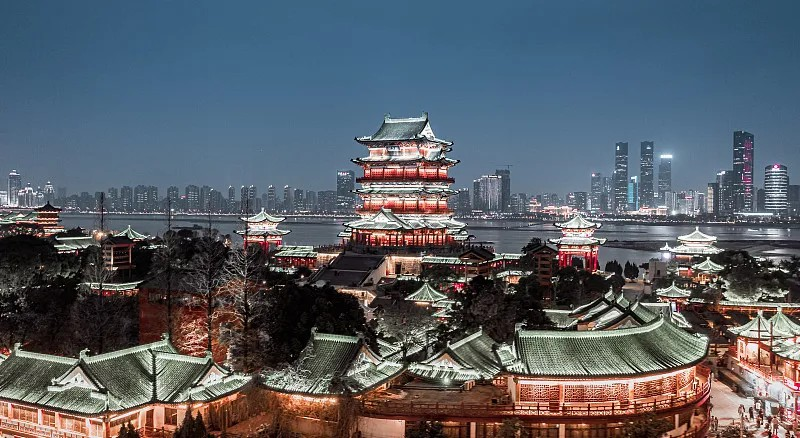Teng: (336, 111, 469, 246)
